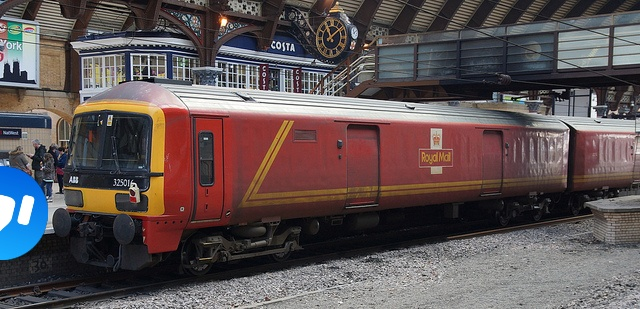like: (0, 166, 48, 260)
